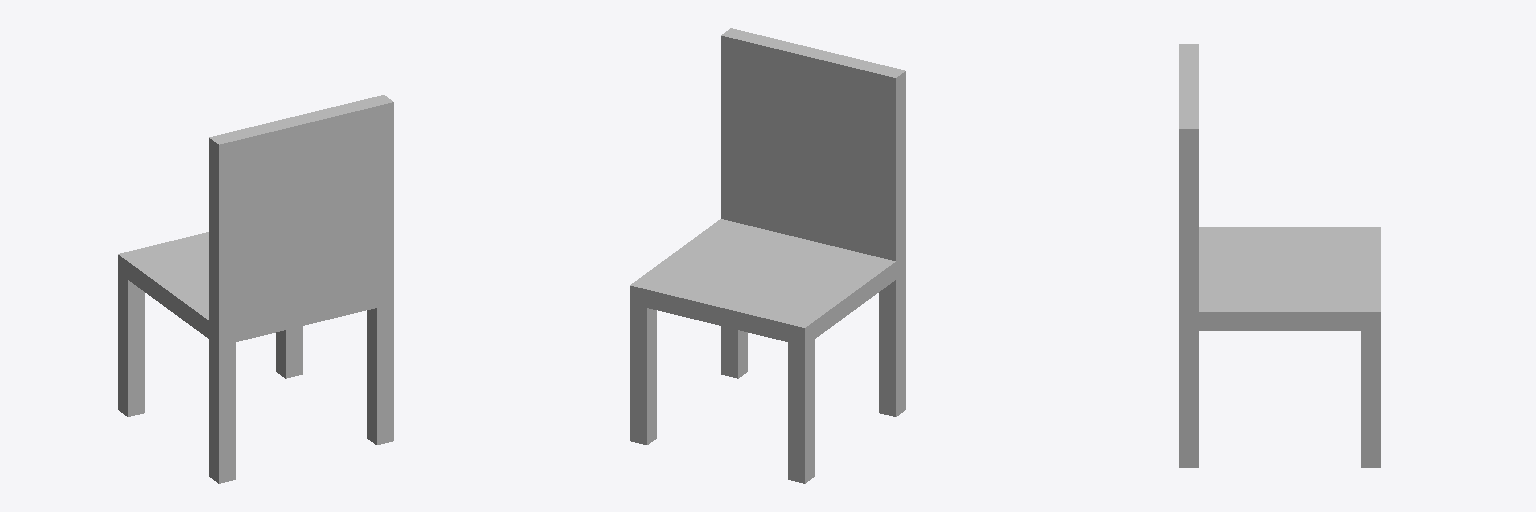
The model's file is chair.obj.
3 views of the same model, side by side, from view 1: azimuth 30°, elevation 25°; view 2: azimuth 150°, elevation 25°; view 3: azimuth 270°, elevation 25° (orthographic).
Parts seen in each view (by area): view 1: chair; view 2: chair; view 3: chair.
Boxes of the visible parts, <box> form: chair: <box>118,95,393,483</box>; chair: <box>630,28,905,483</box>; chair: <box>1179,44,1380,467</box>.
Bounding box in the file's own units: 2 × 3.7 × 2.